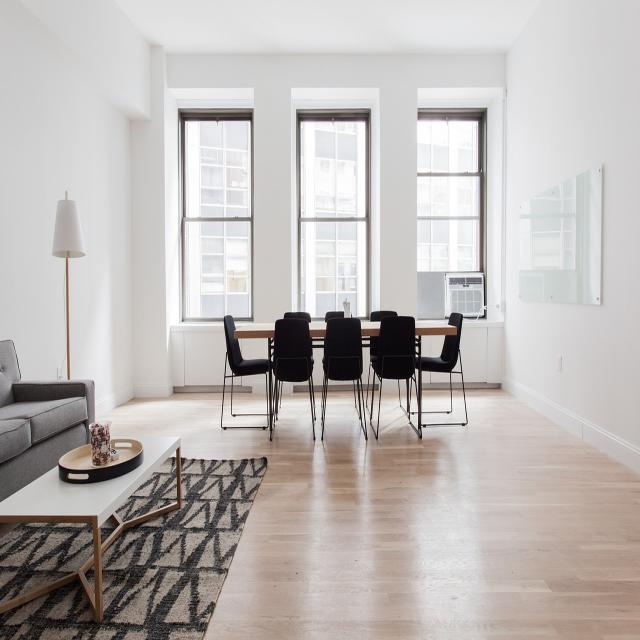floor: (95, 379, 640, 640), (421, 389, 467, 424), (222, 392, 267, 427), (232, 392, 267, 414), (422, 389, 452, 411), (372, 390, 380, 434), (360, 391, 366, 434), (410, 389, 418, 412), (400, 390, 407, 413), (367, 390, 373, 414), (410, 414, 418, 430), (355, 390, 359, 414)
wall: (166, 52, 507, 323), (503, 0, 640, 474), (0, 16, 135, 420), (18, 0, 151, 119), (131, 44, 168, 398), (518, 162, 602, 305), (163, 46, 180, 397), (370, 99, 380, 313), (291, 100, 297, 313)
